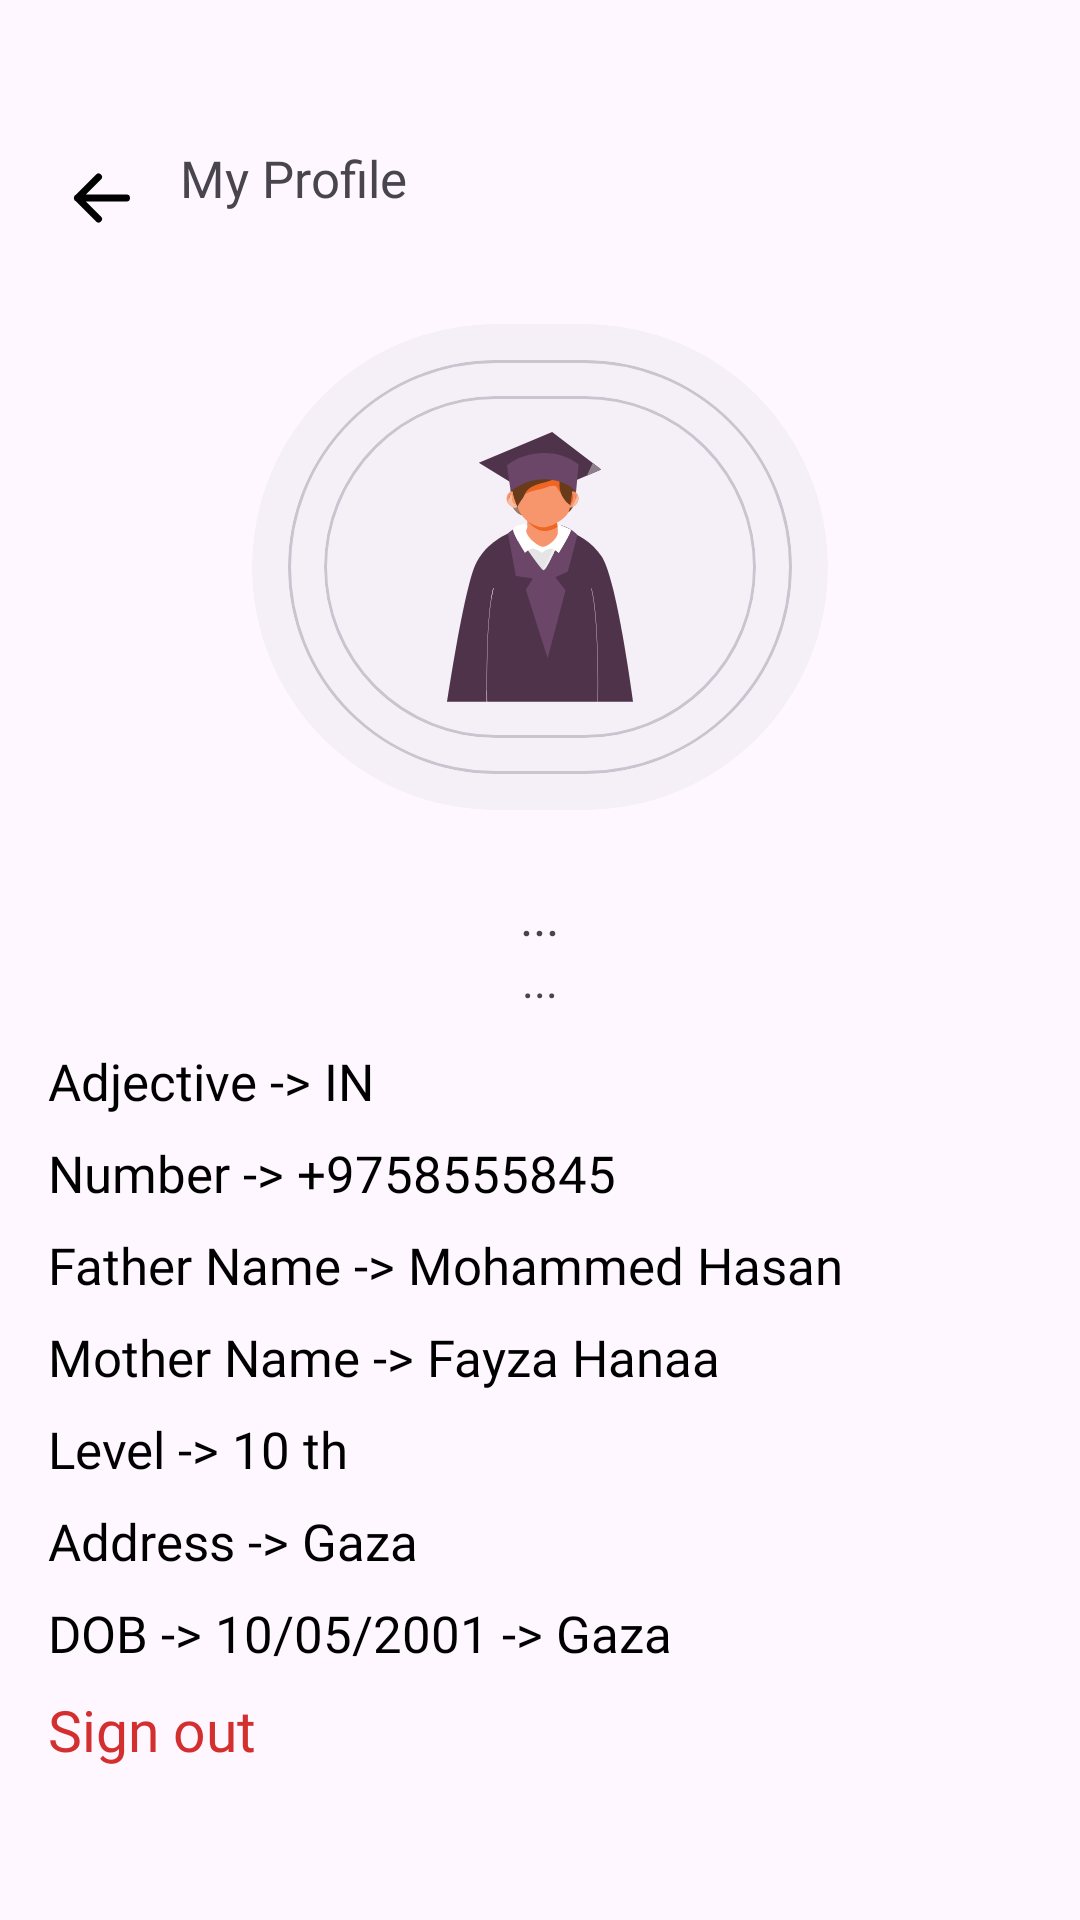

Icons on this 1080*1920 Android screen, each with its box as (x1, y1, x2, y2):
back: (74, 173, 130, 223)
user: (447, 432, 633, 702)
